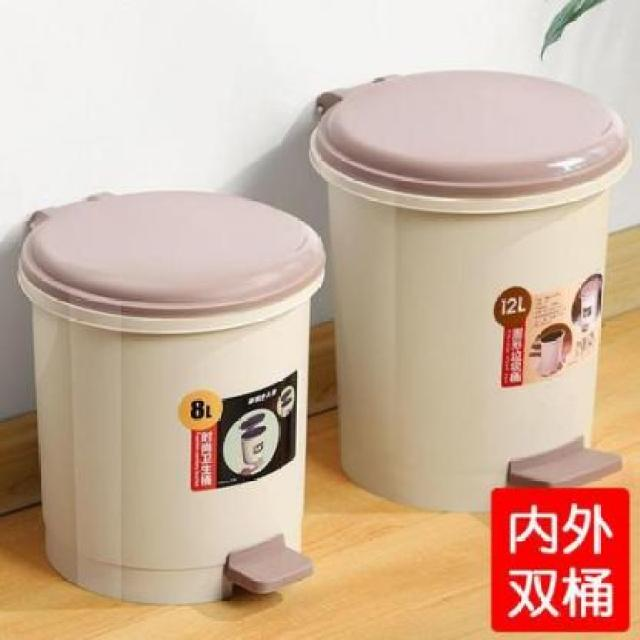dustbin: (306, 65, 638, 518), (14, 182, 331, 610)
